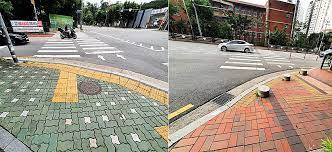guide_blocks: (54, 71, 78, 101), (140, 86, 170, 103), (284, 95, 332, 104), (70, 69, 109, 80), (111, 76, 141, 89), (23, 62, 69, 70)
